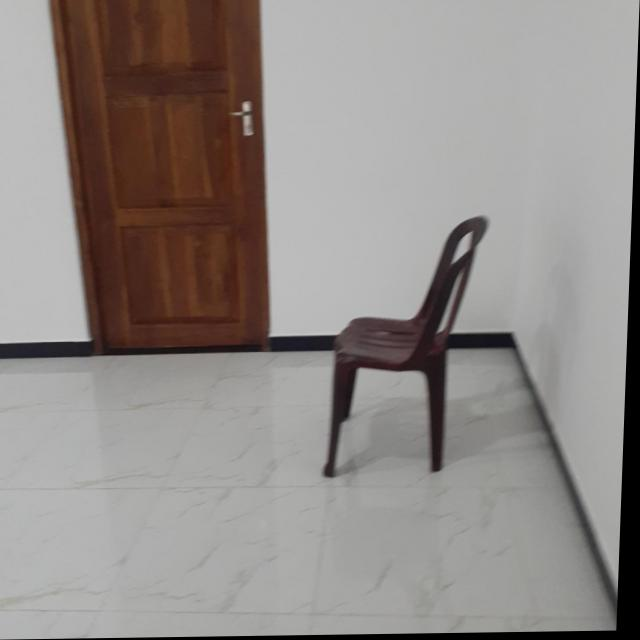Chair: (326, 217, 489, 489)
